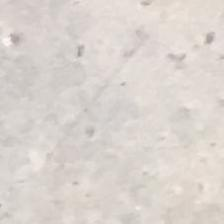Non_Crack: (36, 18, 185, 211)
